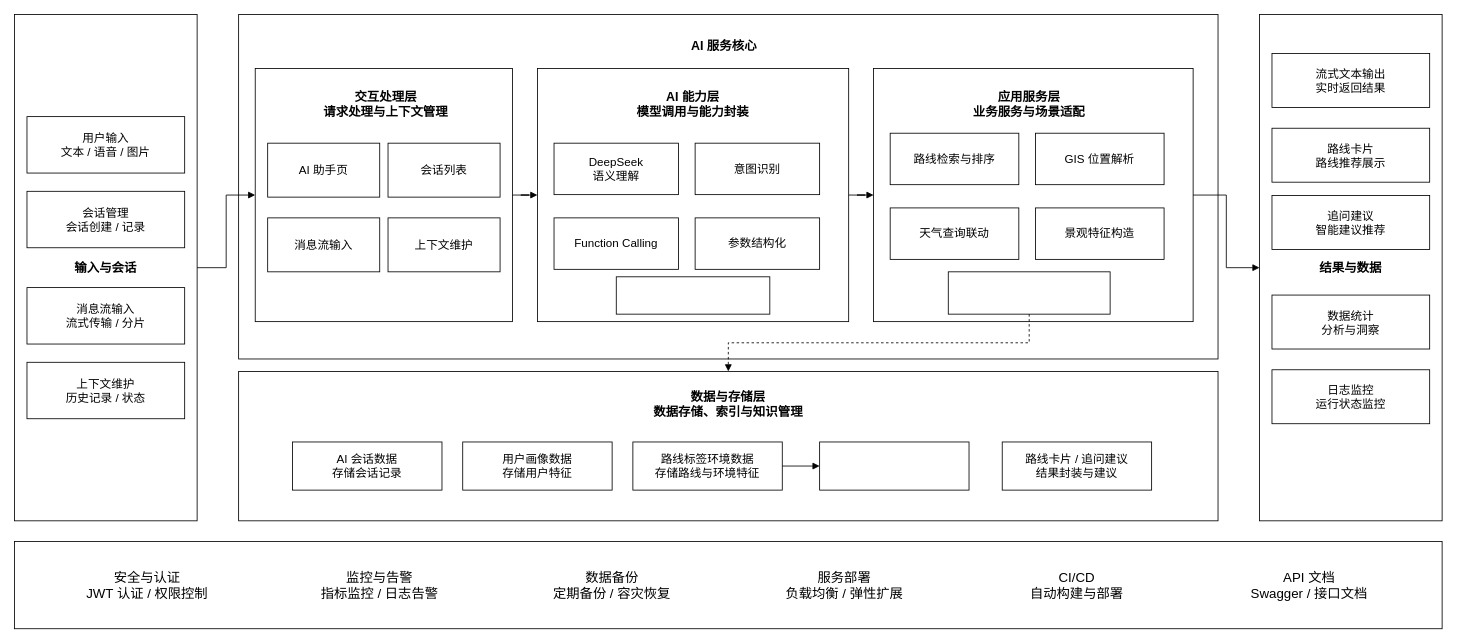
The diagram is 1457 pixels wide and 643 high, and some of its shapes have lost their labels. Here are the shapes that lost their labels. From the top down, the centre of each, then its label:
[692,295]: 工具调用编排
[1028,292]: Flask 随机森林预测
[894,465]: 流式文本返回 实时生成响应
